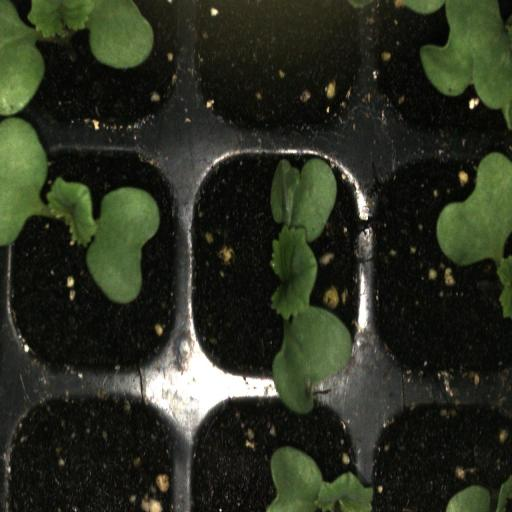Folha: (404, 0, 512, 130), (436, 152, 512, 318), (266, 446, 374, 512), (446, 478, 512, 512)
Germinacao: (186, 146, 364, 396), (4, 144, 189, 377), (18, 0, 190, 145)
